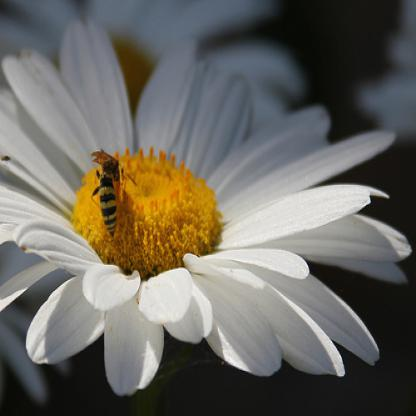ASTER: (4, 22, 412, 403)
